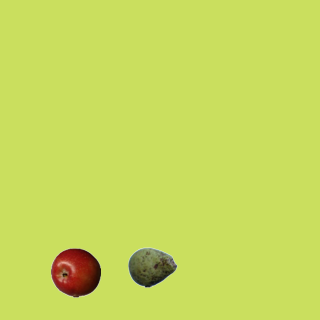Apple Braeburn: (50, 247, 100, 297)
Pear Stone: (127, 242, 177, 292)
